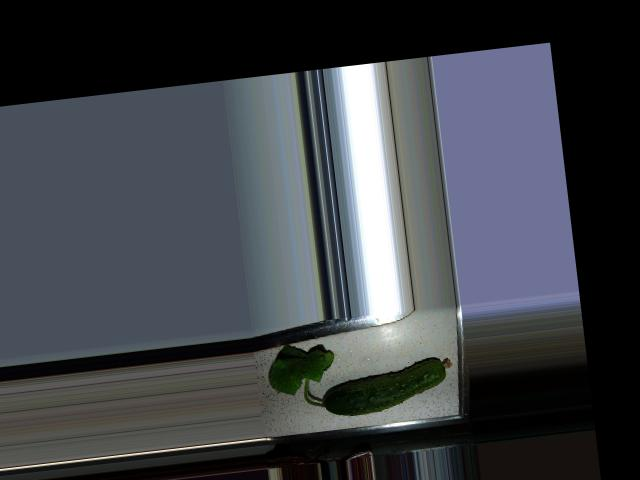cucumber: (318, 356, 456, 419)
